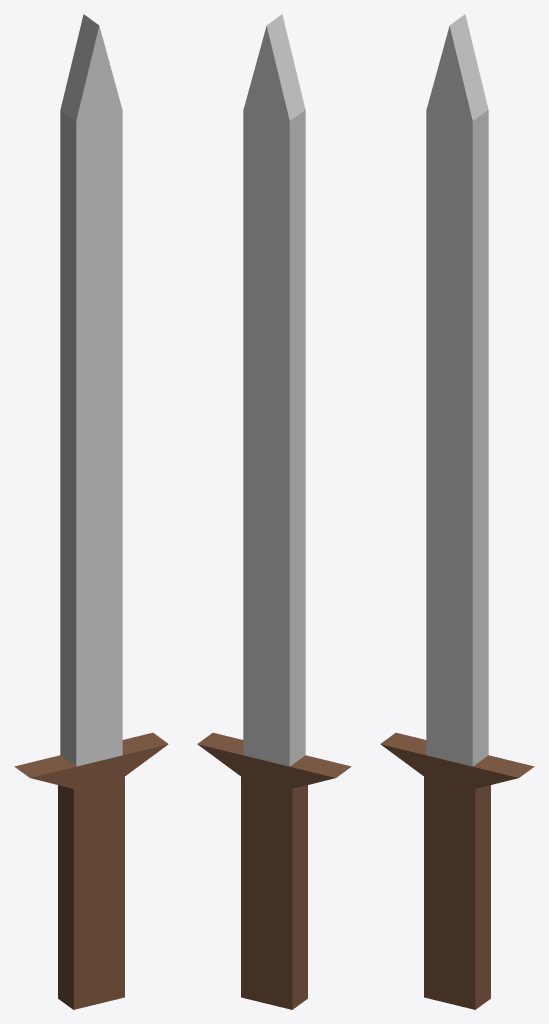
Rendered from DebugSword.fbx.
The picture shows the model from 3 angles, left to right: view 1: azimuth 30°, elevation 25°; view 2: azimuth 150°, elevation 25°; view 3: azimuth 330°, elevation 25°; orthographic projection.
Parts seen in each view (by area): view 1: Cube; view 2: Cube; view 3: Cube.
Boxes of the visible parts, box(x1,y1,x2,y2) form: Cube: box(14, 14, 168, 1009); Cube: box(197, 14, 351, 1009); Cube: box(380, 14, 534, 1009).
Size of the model in its own units: 49.65 by 334 by 9.74.
